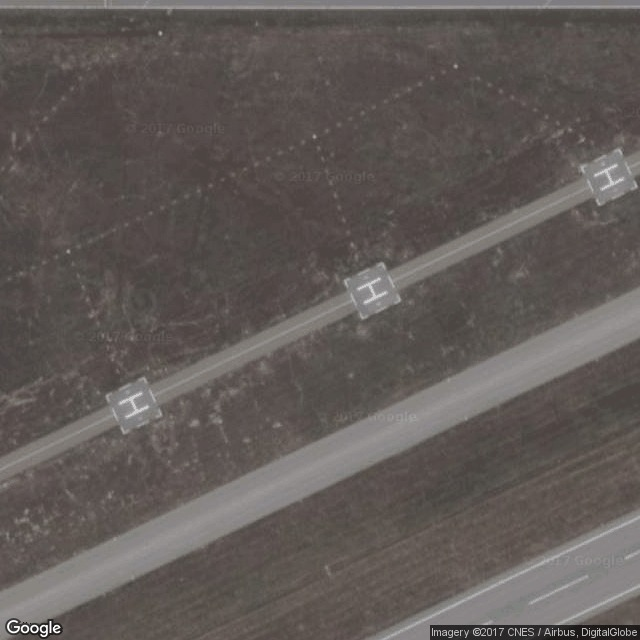heliport: (586, 159, 632, 196), (349, 273, 391, 308), (112, 390, 151, 422)
